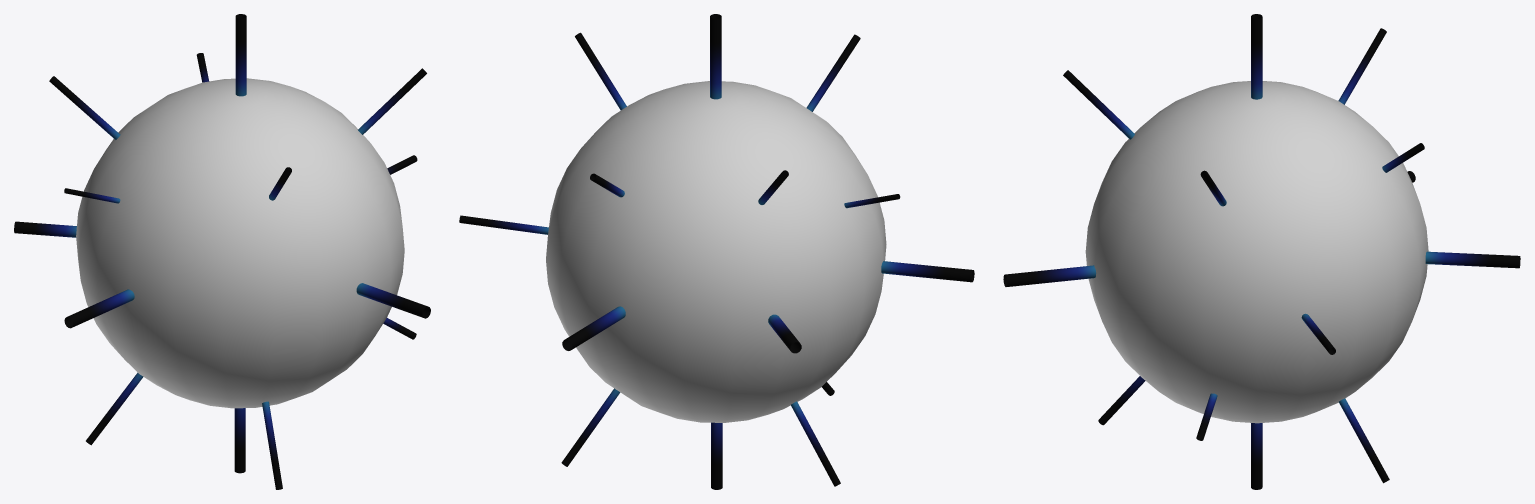
File: core.fbx
3 views of the same model, side by side, from view 1: azimuth 30°, elevation 25°; view 2: azimuth 150°, elevation 25°; view 3: azimuth 270°, elevation 25° (orthographic). The views are drawn at different scales.
Parts seen in each view (by area): view 1: core_clouds, lightshaft8__2g, lightshaft14__2g, lightshaft1__2g, lightshaft15__2g, lightshaft16__2g, lightshaft3__2g, lightshaft6__2g, lightshaft10__2g, lightshaft7__2g; view 2: core_clouds, lightshaft1__2g, lightshaft14__2g, lightshaft4__2g, lightshaft15__2g, lightshaft7__2g, lightshaft11__2g, lightshaft5__2g, lightshaft9__2g, lightshaft10__2g, lightshaft16__2g; view 3: core_clouds, lightshaft4__2g, lightshaft8__2g, lightshaft14__2g, lightshaft15__2g, lightshaft5__2g, lightshaft9__2g, lightshaft3__2g.
Part boxes in pixels (x1,y1,x2,y2): core_clouds: [76, 78, 404, 408]; lightshaft8__2g: [356, 283, 430, 318]; lightshaft14__2g: [235, 14, 246, 96]; lightshaft1__2g: [64, 289, 134, 328]; lightshaft15__2g: [234, 408, 245, 473]; lightshaft16__2g: [14, 221, 76, 237]; lightshaft3__2g: [49, 76, 120, 139]; lightshaft6__2g: [262, 401, 282, 489]; lightshaft10__2g: [358, 68, 426, 134]; lightshaft7__2g: [86, 372, 143, 445]; core_clouds: [546, 81, 886, 422]; lightshaft1__2g: [881, 261, 974, 282]; lightshaft14__2g: [710, 14, 721, 99]; lightshaft4__2g: [562, 306, 625, 350]; lightshaft15__2g: [711, 422, 722, 489]; lightshaft7__2g: [791, 401, 840, 486]; lightshaft11__2g: [459, 215, 548, 234]; lightshaft5__2g: [561, 388, 620, 466]; lightshaft9__2g: [806, 34, 860, 111]; lightshaft10__2g: [575, 32, 626, 110]; lightshaft16__2g: [768, 314, 801, 353]; core_clouds: [1085, 81, 1428, 423]; lightshaft4__2g: [1425, 251, 1520, 268]; lightshaft8__2g: [1003, 265, 1096, 286]; lightshaft14__2g: [1251, 14, 1262, 99]; lightshaft15__2g: [1251, 423, 1262, 489]; lightshaft5__2g: [1339, 398, 1389, 483]; lightshaft9__2g: [1063, 70, 1134, 139]; lightshaft3__2g: [1338, 28, 1386, 104].
Size of the model in its own units: 28.7 by 29.47 by 29.28.
